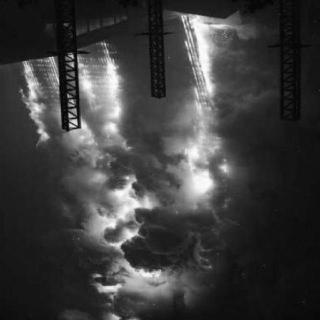Fire: (24, 56, 156, 292), (166, 20, 236, 206)
Smoke: (86, 213, 244, 317)
